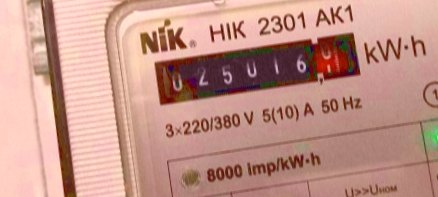0: (245, 54, 262, 79), (171, 69, 187, 93), (320, 39, 335, 60)
1: (270, 50, 284, 76), (325, 62, 335, 74)
2: (196, 62, 212, 87)
5: (221, 62, 235, 84)
6: (294, 49, 310, 76)
screen: (145, 21, 373, 113)
